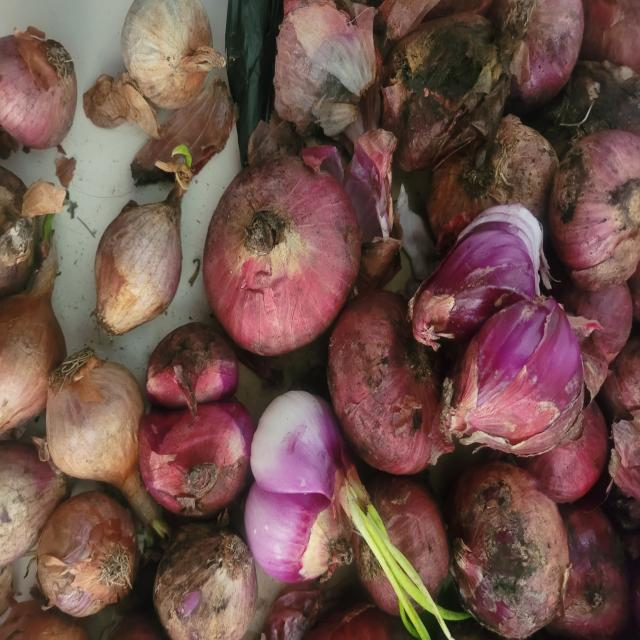mechanical_damage: (397, 201, 603, 466), (132, 318, 252, 532), (244, 381, 354, 593)
